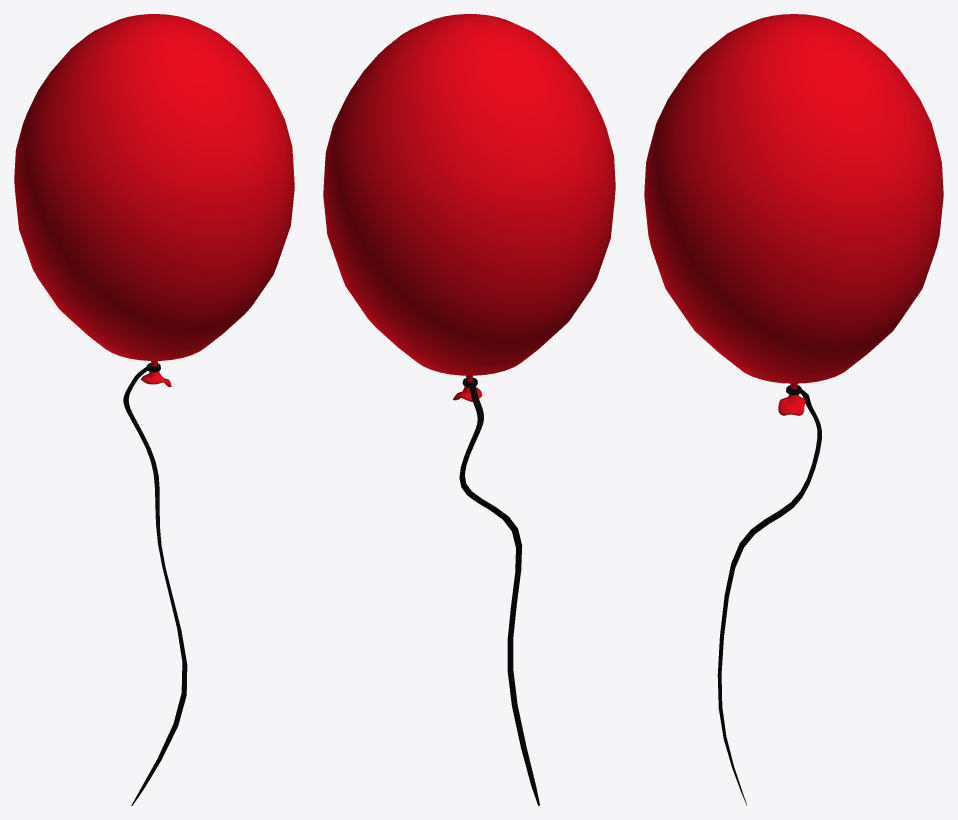
Rendered from badoom.fbx.
The picture shows the model from 3 angles, left to right: view 1: azimuth 30°, elevation 25°; view 2: azimuth 150°, elevation 25°; view 3: azimuth 270°, elevation 25°; orthographic projection. The views are drawn at different scales.
Visible parts, largest first — view 1: Sphere, Sphere.002; view 2: Sphere, Sphere.002; view 3: Sphere, Sphere.002.
Part boxes in pixels (x1,y1,x2,y2): Sphere: [14, 14, 294, 386]; Sphere.002: [123, 366, 187, 805]; Sphere: [323, 14, 615, 401]; Sphere.002: [459, 384, 539, 805]; Sphere: [644, 14, 943, 415]; Sphere.002: [717, 389, 821, 805].
Size of the model in its own units: 177 by 526 by 177.
